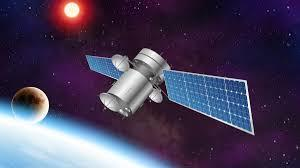antenna: (98, 92, 121, 114), (110, 54, 130, 73), (146, 87, 164, 104)
body: (105, 46, 172, 119)
solar: (162, 68, 256, 137), (84, 54, 125, 82)
